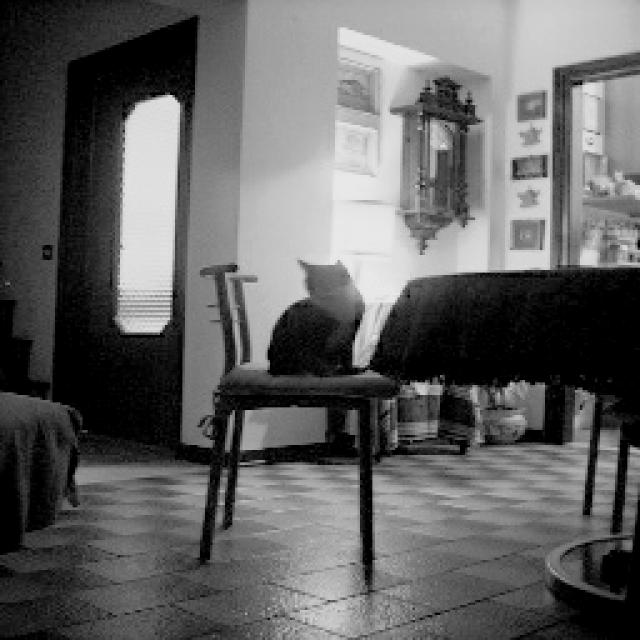cat: (249, 229, 387, 388)
